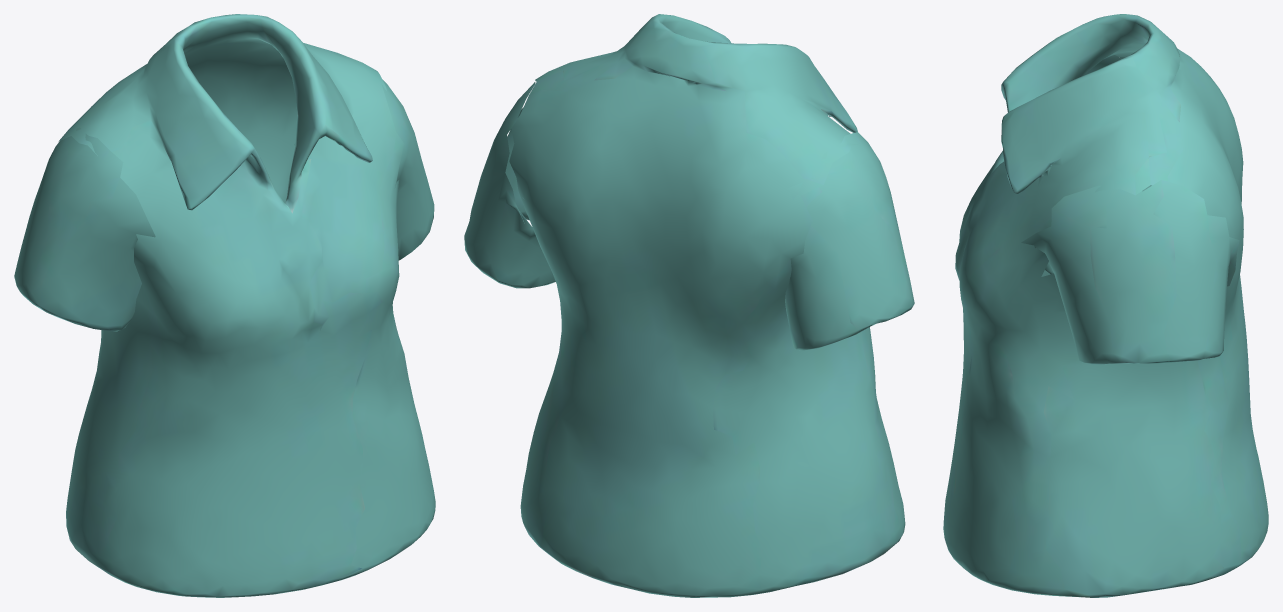
The model's file is Chibi Polo Keychain.glb.
3 views of the same model, side by side, from view 1: azimuth 30°, elevation 25°; view 2: azimuth 150°, elevation 25°; view 3: azimuth 270°, elevation 25° (orthographic). The views are drawn at different scales.
Visible parts, largest first — view 1: polo, polo.001, polo.002; view 2: polo, polo.001, polo.002; view 3: polo, polo.002.
Part boxes in pixels (<box>): polo: <box>58,14,435,597</box>; polo.001: <box>14,127,155,331</box>; polo.002: <box>294,79,434,260</box>; polo: <box>509,14,905,597</box>; polo.001: <box>785,132,914,350</box>; polo.002: <box>464,82,555,288</box>; polo: <box>943,14,1268,597</box>; polo.002: <box>1021,180,1239,364</box>.
Bounding box in the file's own units: 0.3203 × 0.3738 × 0.2224.
Materials: 1 (1 with a texture image).
